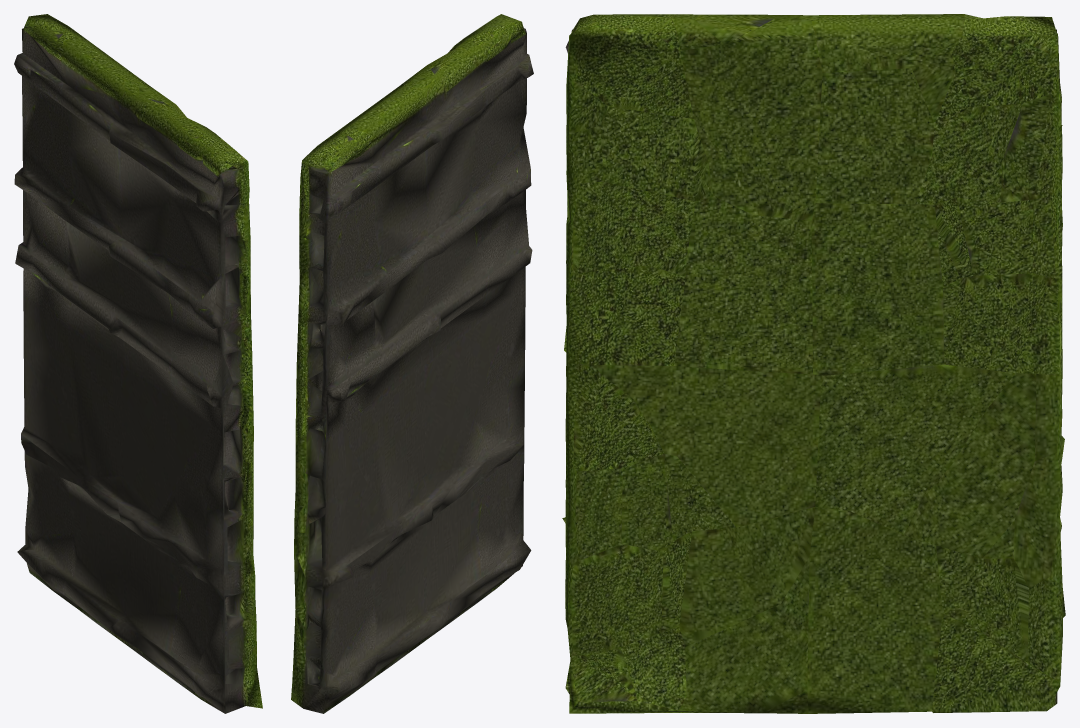
Rendered from pnl_turf_lod1.glb.
The picture shows the model from 3 angles, left to right: view 1: azimuth 30°, elevation 25°; view 2: azimuth 150°, elevation 25°; view 3: azimuth 270°, elevation 25°; orthographic projection. The views are drawn at different scales.
Visible parts, largest first — view 1: tripo_node_8234d077-fc7a-4c50-81f5-bc581e07ed67; view 2: tripo_node_8234d077-fc7a-4c50-81f5-bc581e07ed67; view 3: tripo_node_8234d077-fc7a-4c50-81f5-bc581e07ed67.
Boxes of the visible parts, <box> form: tripo_node_8234d077-fc7a-4c50-81f5-bc581e07ed67: <box>14,14,262,713</box>; tripo_node_8234d077-fc7a-4c50-81f5-bc581e07ed67: <box>291,14,533,713</box>; tripo_node_8234d077-fc7a-4c50-81f5-bc581e07ed67: <box>562,14,1065,713</box>.
Bounding box in the file's own units: 0.091 × 0.8955 × 0.5972.
Materials: 1 (1 with a texture image).
